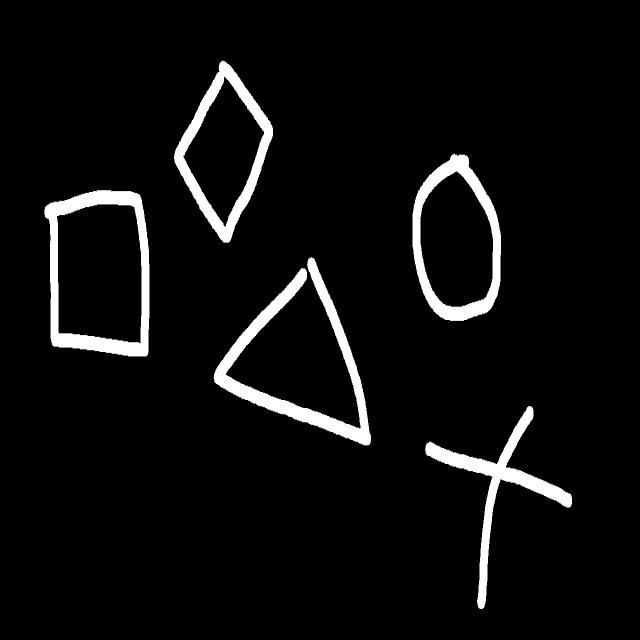Circle: (414, 154, 501, 321)
Cross: (426, 406, 572, 608)
Diamond: (174, 61, 272, 242)
Square: (45, 191, 149, 356)
Triangle: (214, 258, 370, 444)
